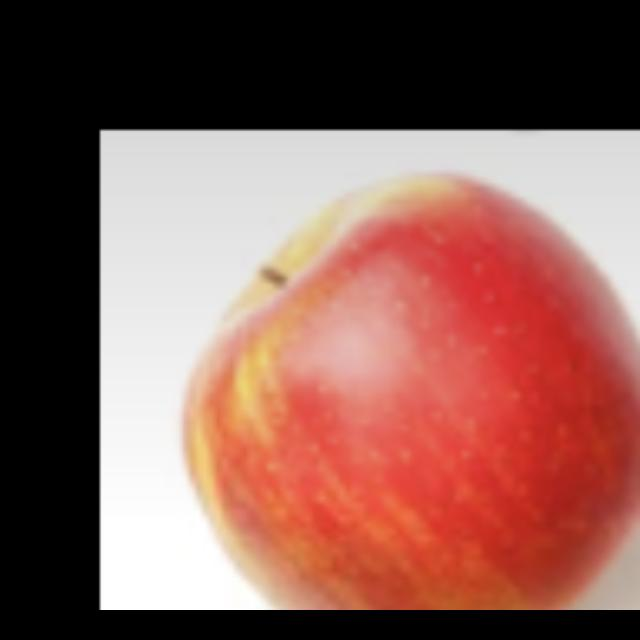Apel Segar: (180, 170, 640, 610)
